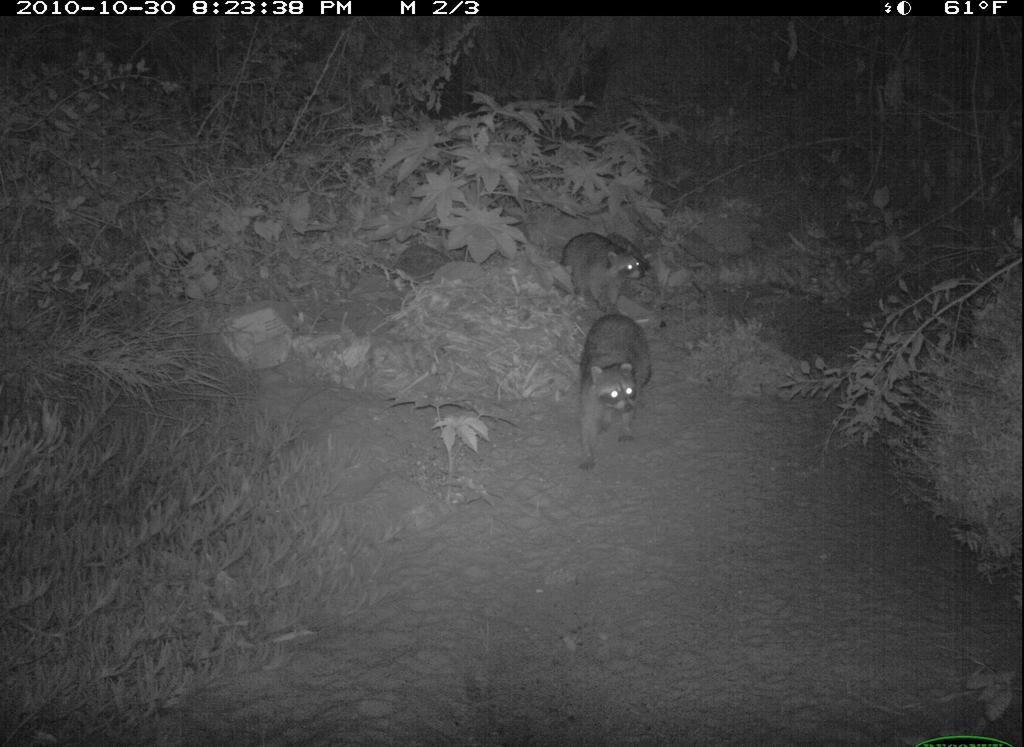raccoon: (566, 310, 666, 478), (560, 230, 653, 314)
